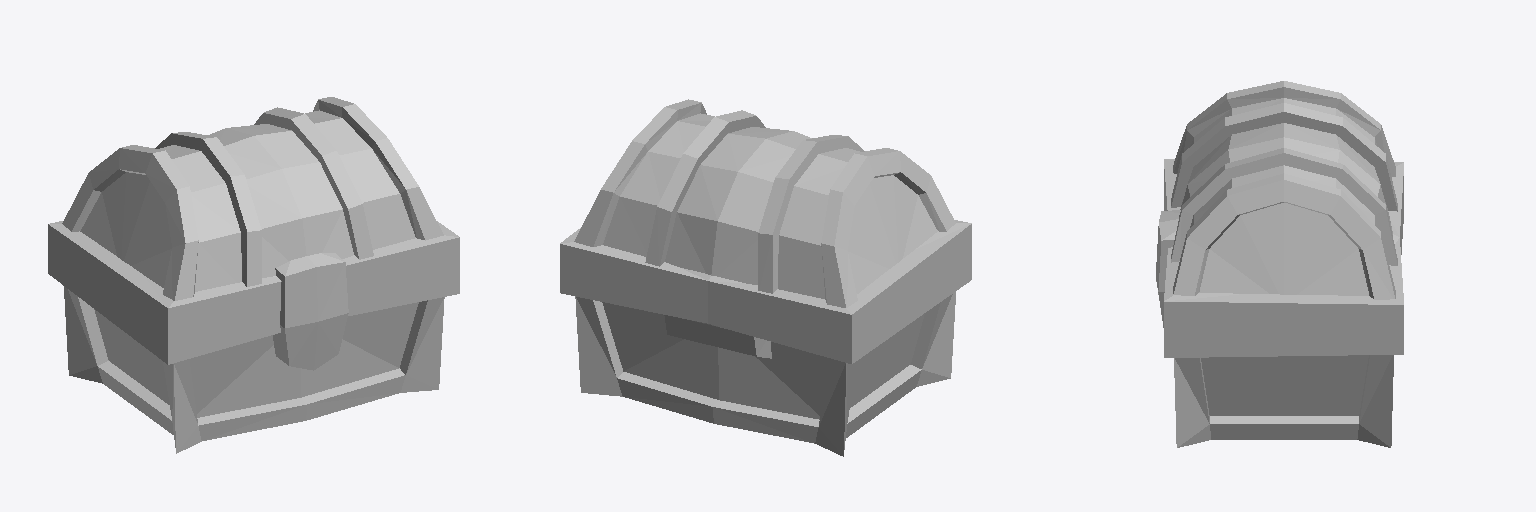
The model's file is chest.obj.
3 renders of one model, left to right at view 1: azimuth 30°, elevation 25°; view 2: azimuth 150°, elevation 25°; view 3: azimuth 270°, elevation 25°, orthographic.
Visible parts, largest first — view 1: Box001_Mesh; view 2: Box001_Mesh; view 3: Box001_Mesh.
Part boxes in pixels (bbox=[...]): Box001_Mesh: bbox=[48, 97, 459, 453]; Box001_Mesh: bbox=[560, 99, 971, 456]; Box001_Mesh: bbox=[1156, 81, 1403, 447].
Bounding box in the file's own units: 0.9539 × 0.7999 × 0.703.